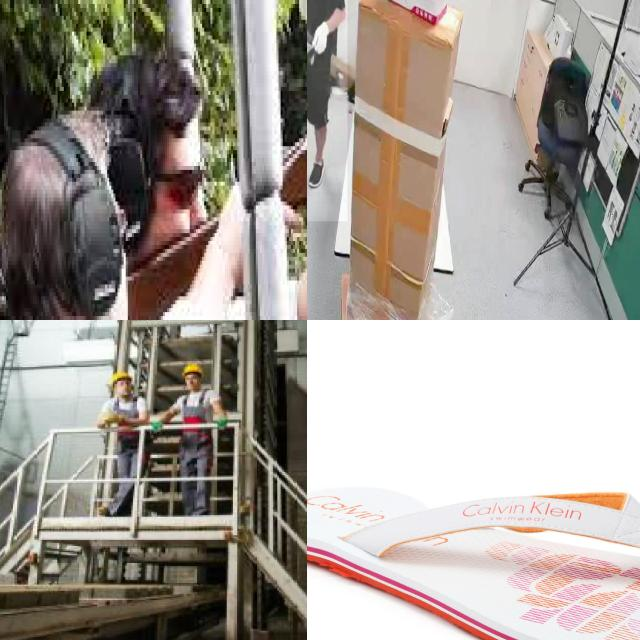Ear-protection: (152, 334, 232, 553), (62, 182, 122, 316), (107, 130, 151, 249)
Sandals: (307, 483, 640, 640)
glasses: (149, 158, 204, 206)
hand_glove: (311, 18, 333, 68)
head_helmet: (109, 370, 138, 400), (178, 362, 204, 392)
person: (80, 345, 150, 523), (307, 0, 348, 222)
shoes: (307, 150, 326, 187)
